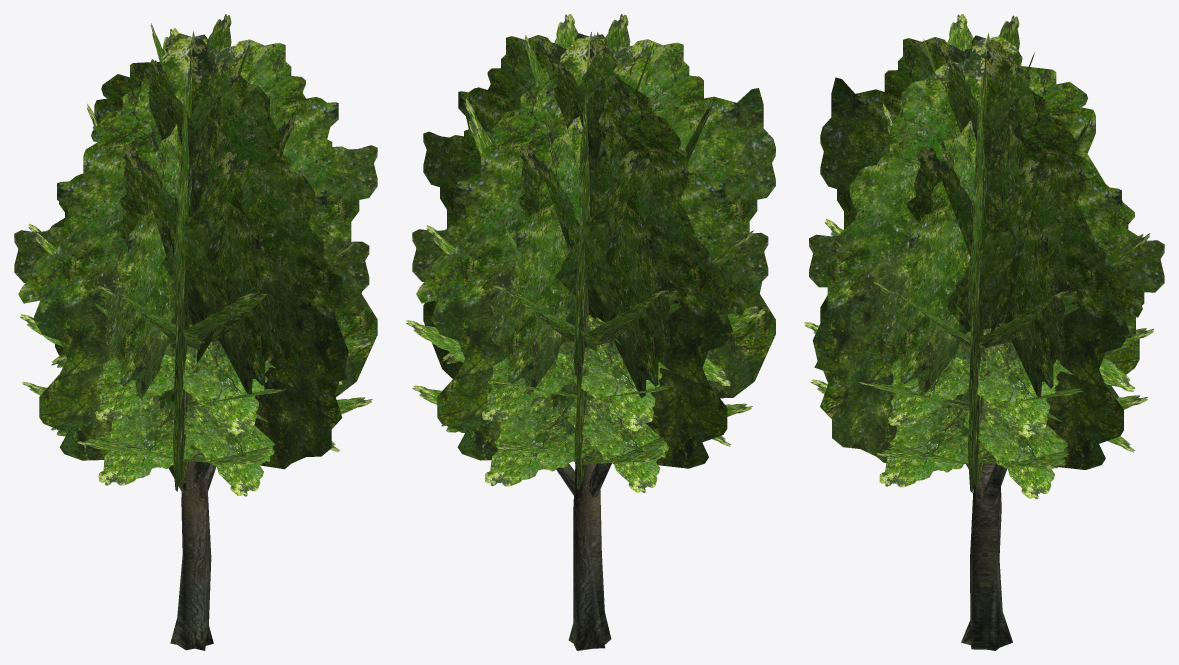
File: vector-tree-0.glb
3 views of the same model, side by side, from view 1: azimuth 30°, elevation 25°; view 2: azimuth 150°, elevation 25°; view 3: azimuth 270°, elevation 25° (orthographic).
Visible parts, largest first — view 1: boomkroon, Tree; view 2: boomkroon, Tree; view 3: boomkroon, Tree.
Boxes of the visible parts, x1,y1,x2,y2 form: boomkroon: (14,14,377,496); Tree: (168,461,216,650); boomkroon: (406,14,775,492); Tree: (556,463,611,650); boomkroon: (804,14,1164,498); Tree: (961,463,1012,650).
Size of the model in its own units: 6.93 by 11.91 by 6.35.
Materials: 2 (2 with a texture image).
